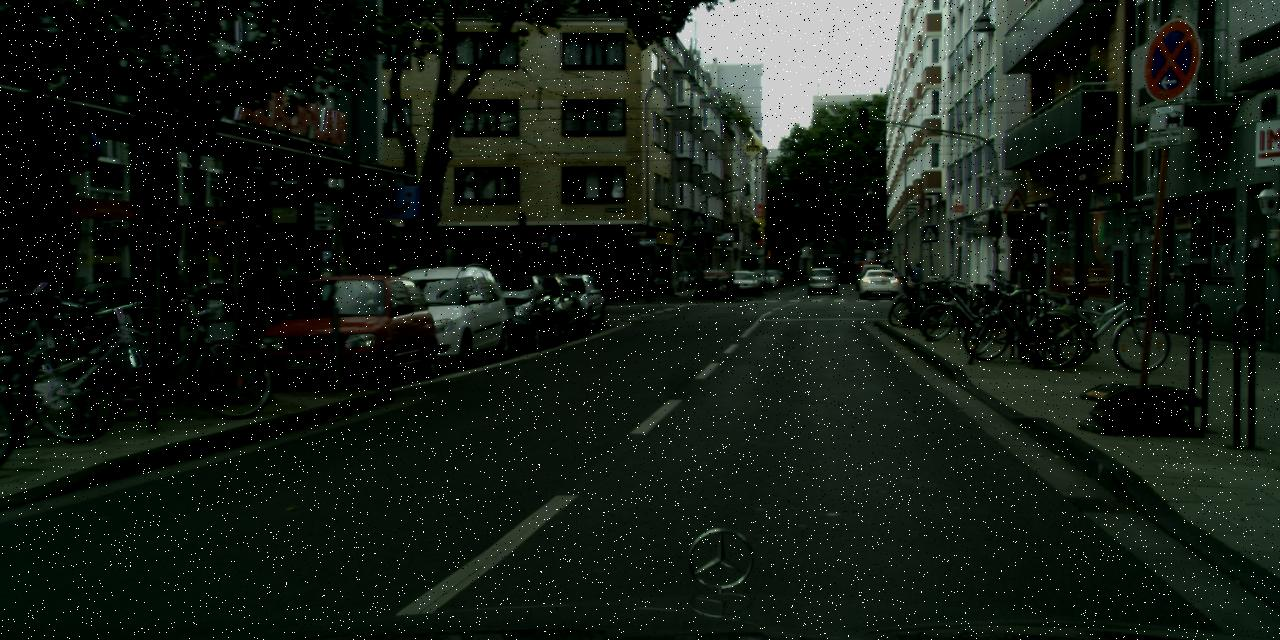ped: (910, 262, 924, 279)
